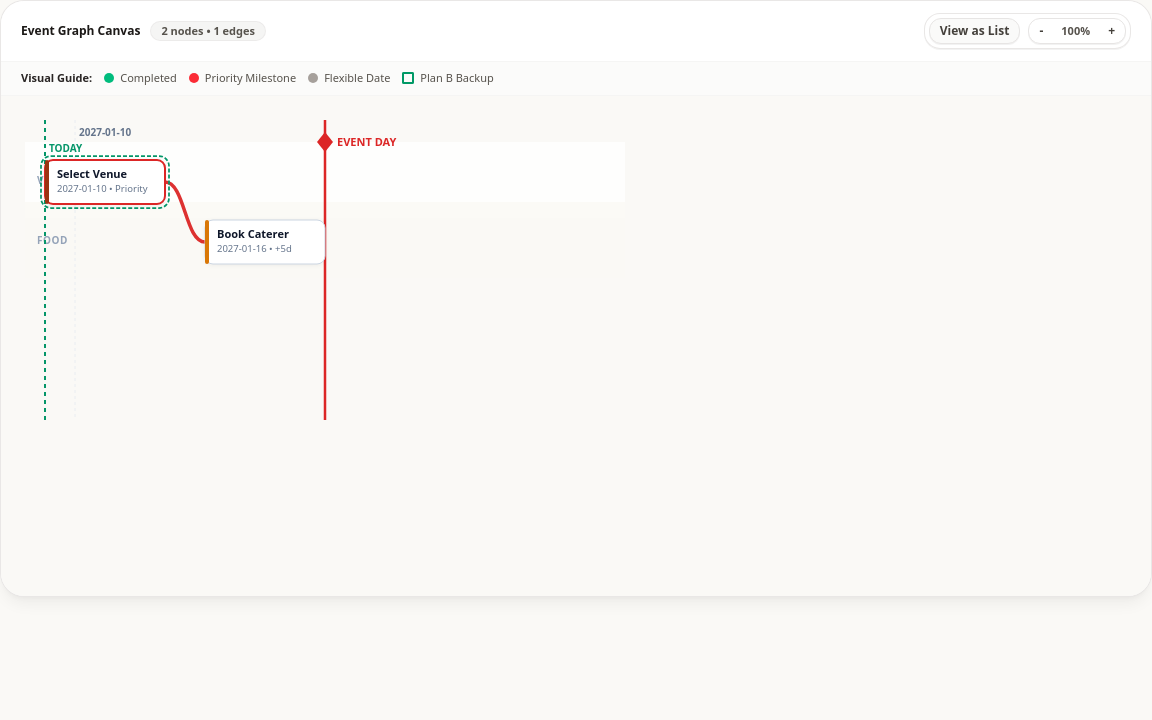
it: EventGraph component (AC7, AC16, AC19, AC29) › toggles to accessible vertical timeline list view (AC7, AC16, AC19)
Click the button with aria-label "Toggle list view" at (975, 31), box left=929, top=18, right=1020, bottom=44
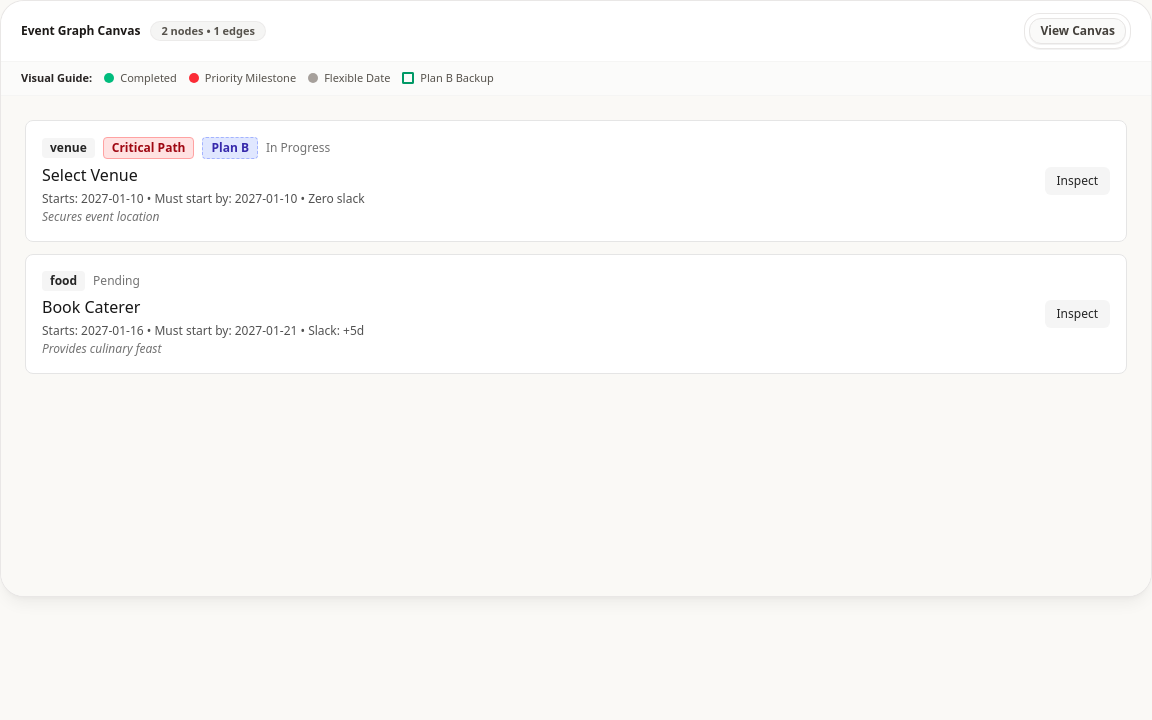
expect the list named "Event tasks timeline list" is shown: met, box left=25, top=120, right=1127, bottom=374
